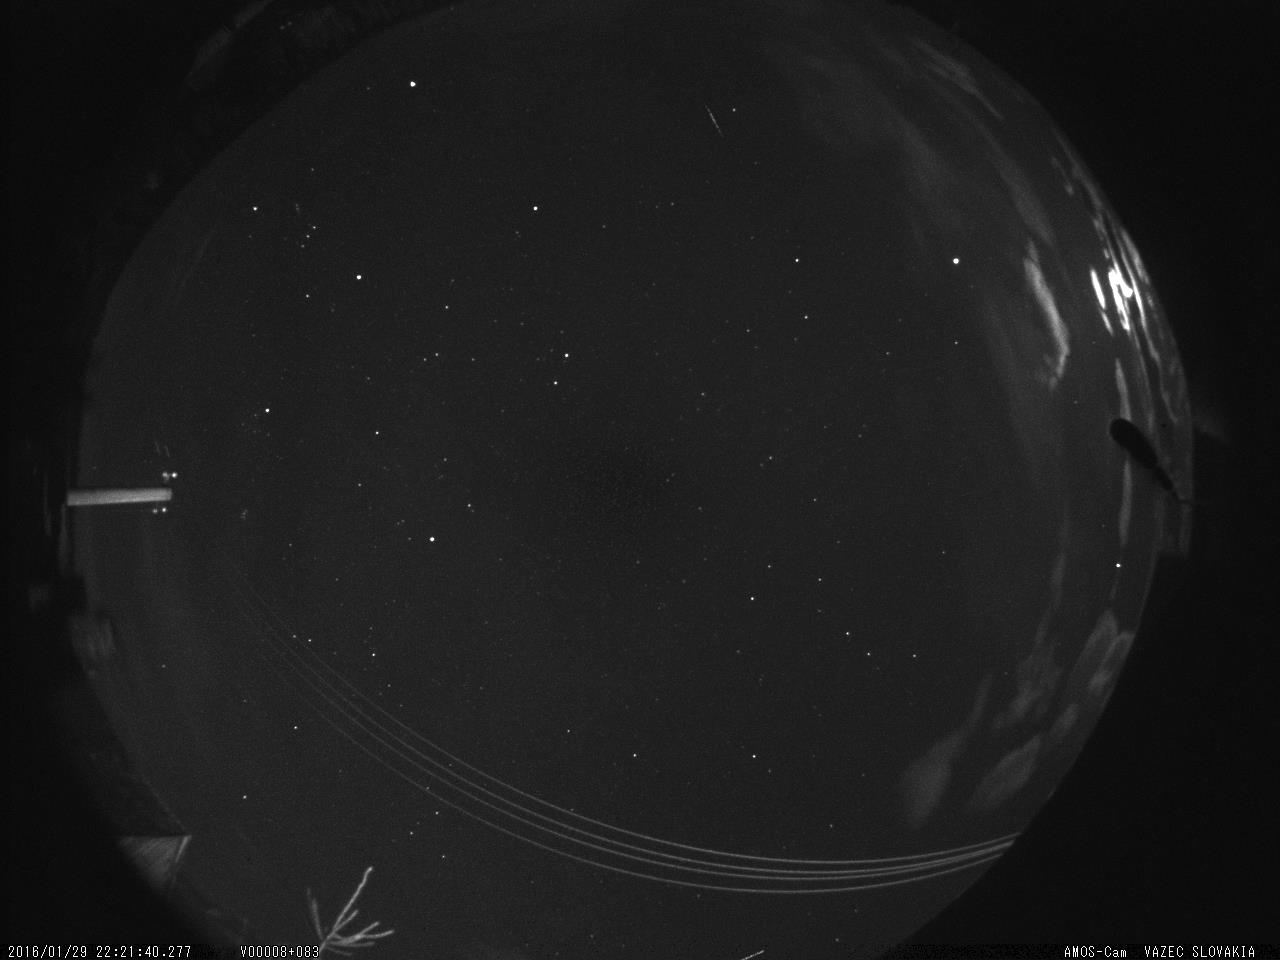meteor: (694, 102, 730, 144)
